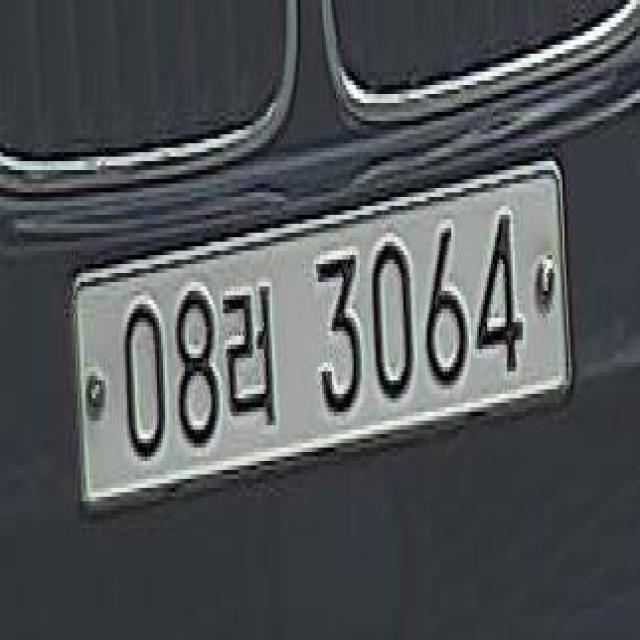illegal_plate: (70, 163, 569, 519)
